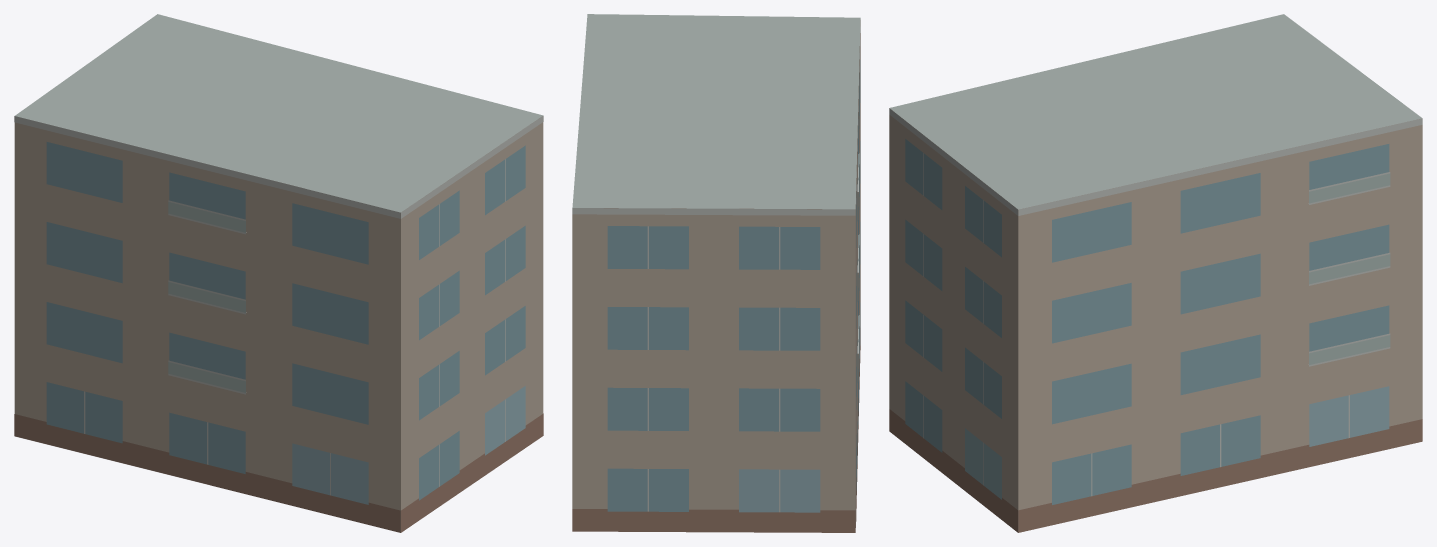
File: survey-upis-32727598.glb
3 renders of one model, left to right at view 1: azimuth 30°, elevation 25°; view 2: azimuth 150°, elevation 25°; view 3: azimuth 270°, elevation 25°, orthographic.
Visible parts, largest first — view 1: survey-upis-32727598.tmp; view 2: survey-upis-32727598.tmp; view 3: survey-upis-32727598.tmp.
Boxes of the visible parts, <box> form: survey-upis-32727598.tmp: <box>14,14,543,532</box>; survey-upis-32727598.tmp: <box>572,14,860,532</box>; survey-upis-32727598.tmp: <box>889,14,1422,532</box>.
Size of the model in its own units: 15.84 by 12.2 by 18.25.
